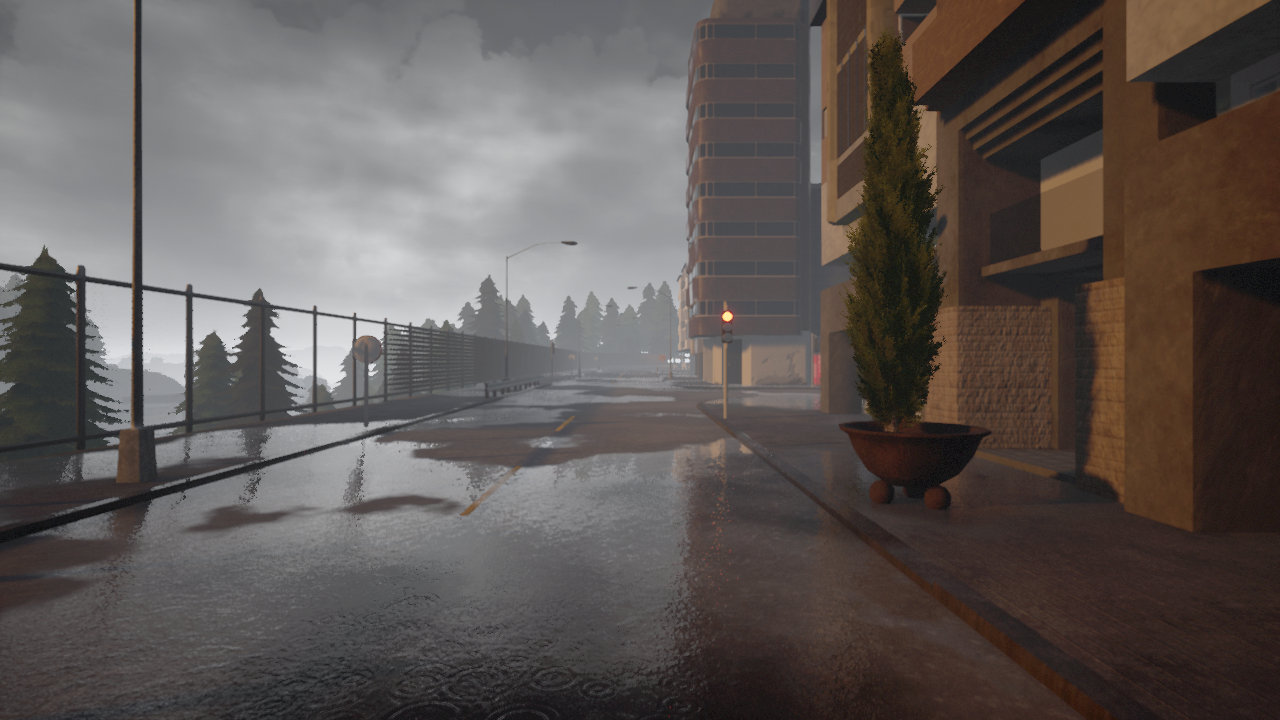red: (720, 310, 734, 344)
